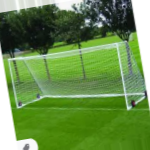goals: (8, 40, 147, 109)
